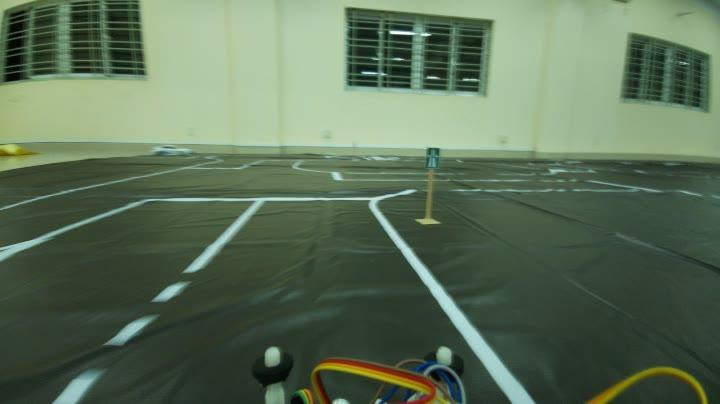highway_entry: (422, 141, 440, 177)
